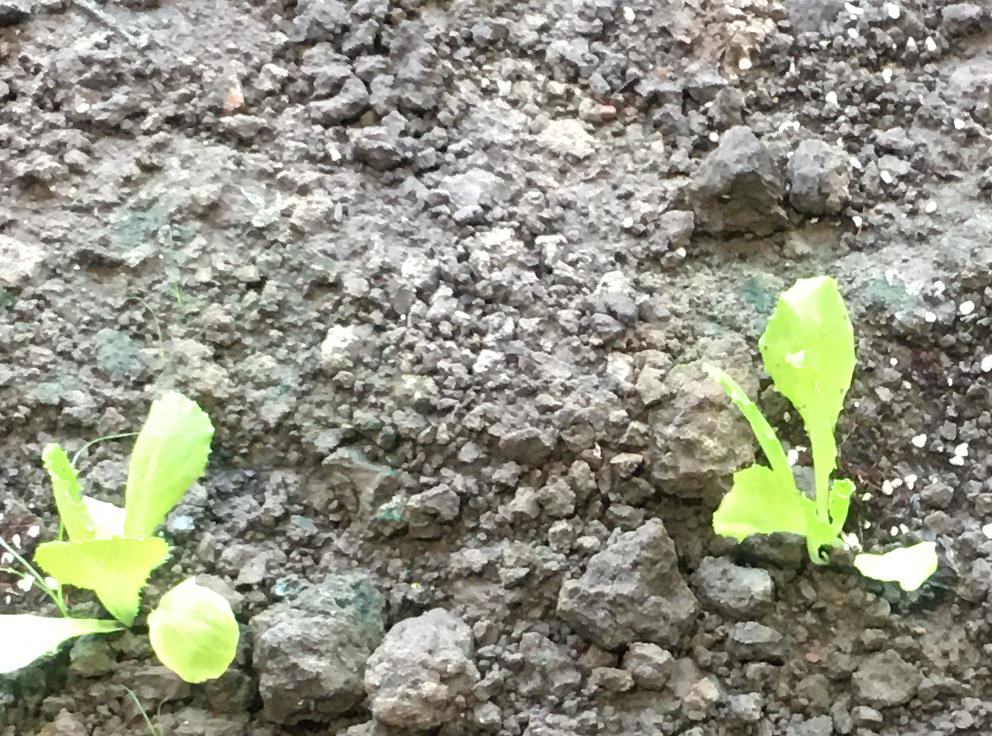block: (550, 519, 695, 652), (248, 566, 374, 716), (367, 606, 489, 728), (684, 124, 787, 239)
